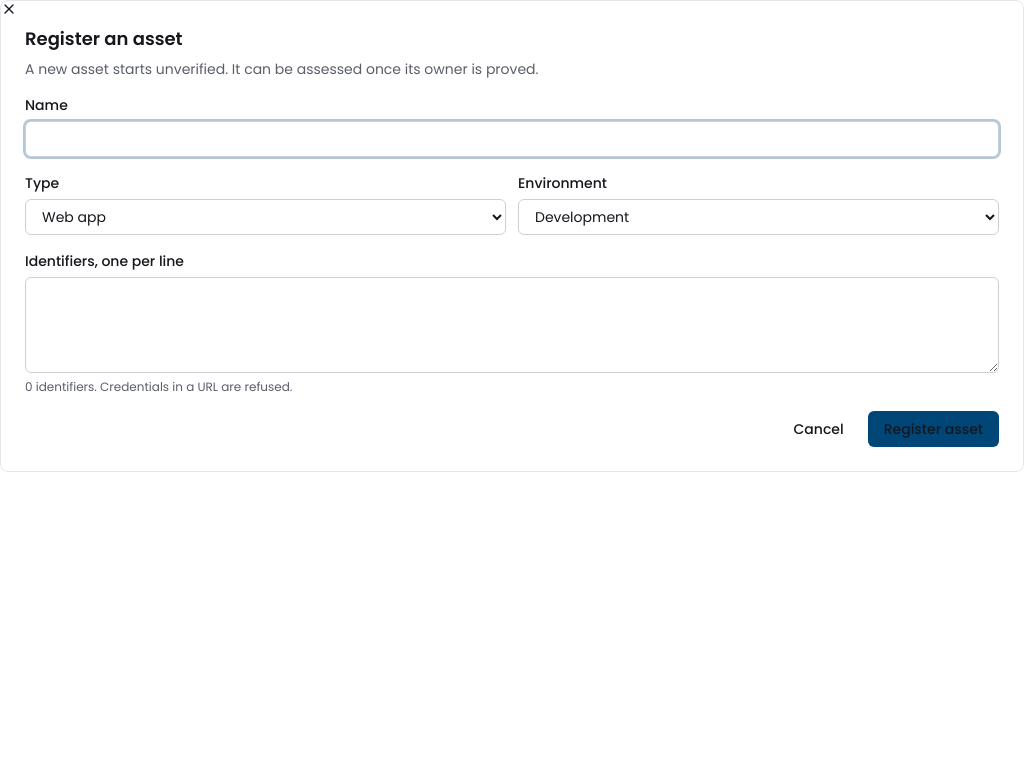
Test case: CreateAssetDialog › keeps the form open and shows fixed copy when the server refuses the asset
In the field labelled "Name": (512, 139) [25, 121, 999, 157], type "Checkout"
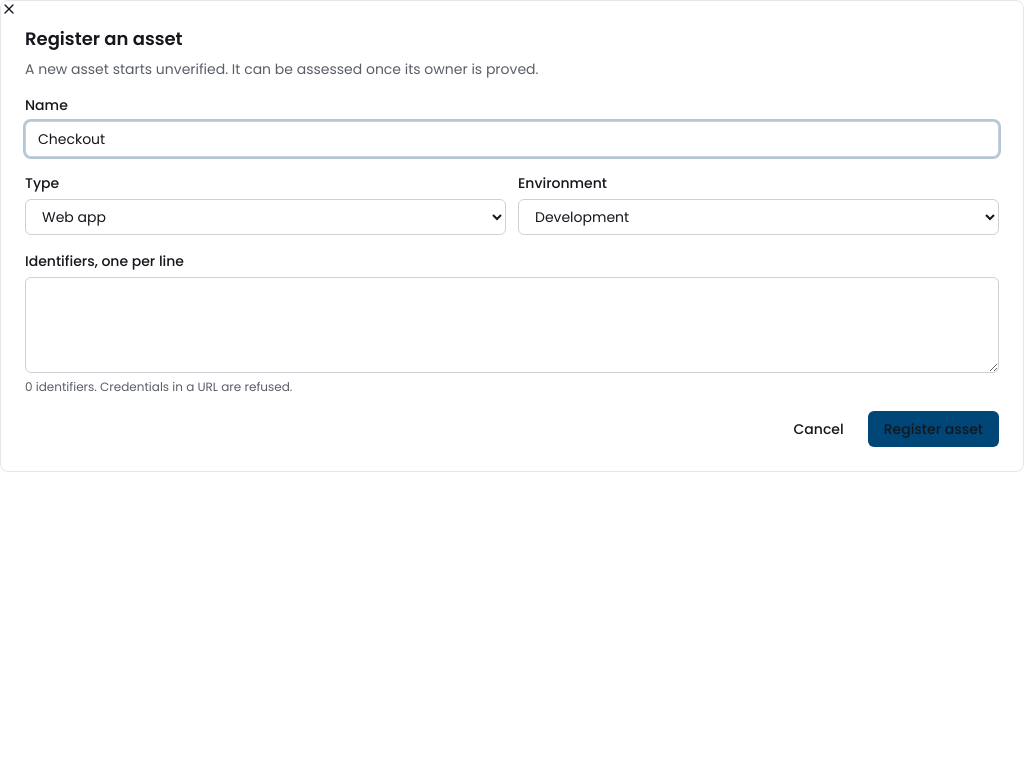
In the text box labelled "Identifiers, one per line": (512, 325) [25, 277, 999, 373], type "https://checkout.test/"
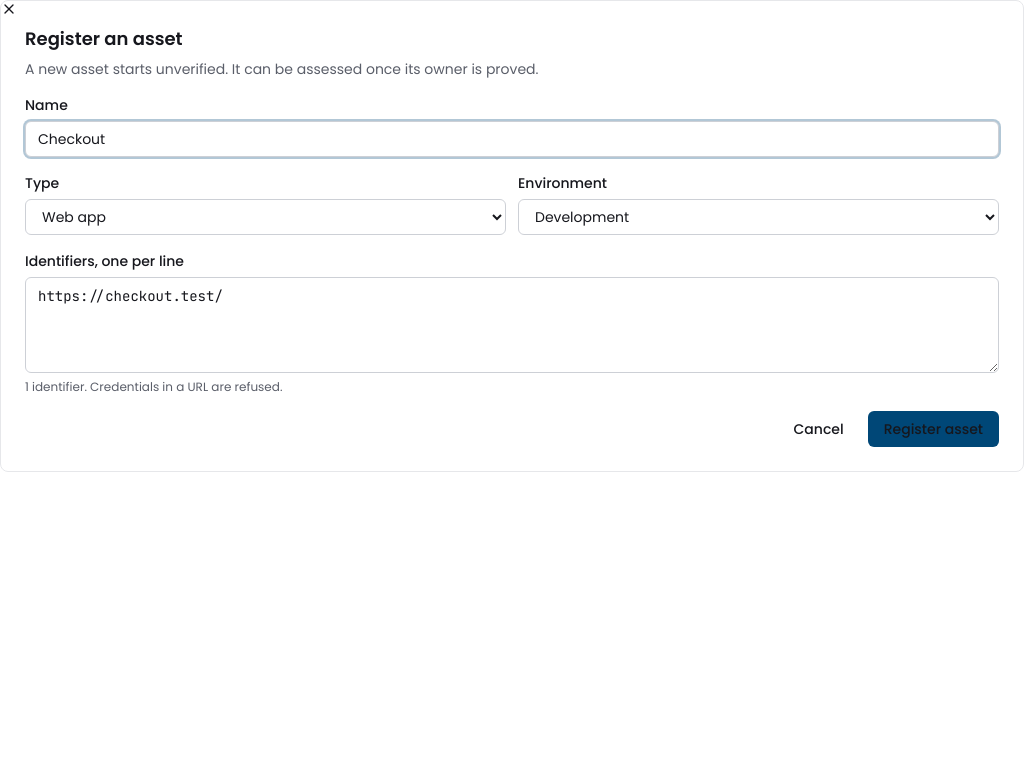
Click the button "Register asset": (933, 429) [868, 411, 999, 447]
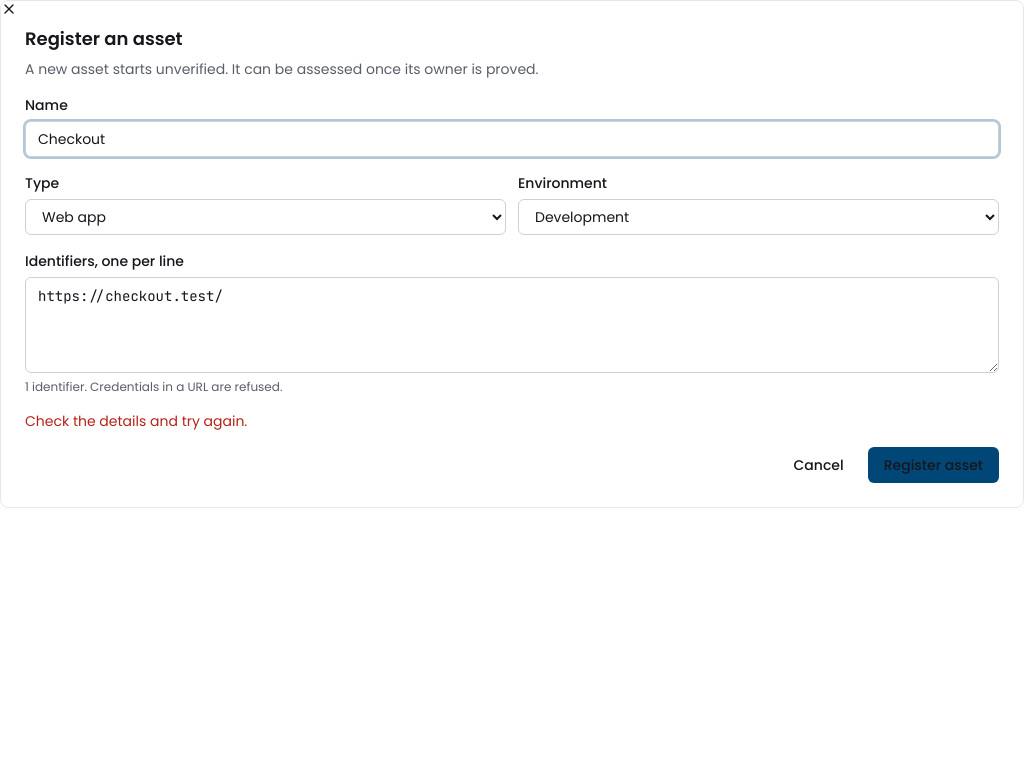
Now the message "Check the details and try again." is shown, box [25, 411, 247, 431]
